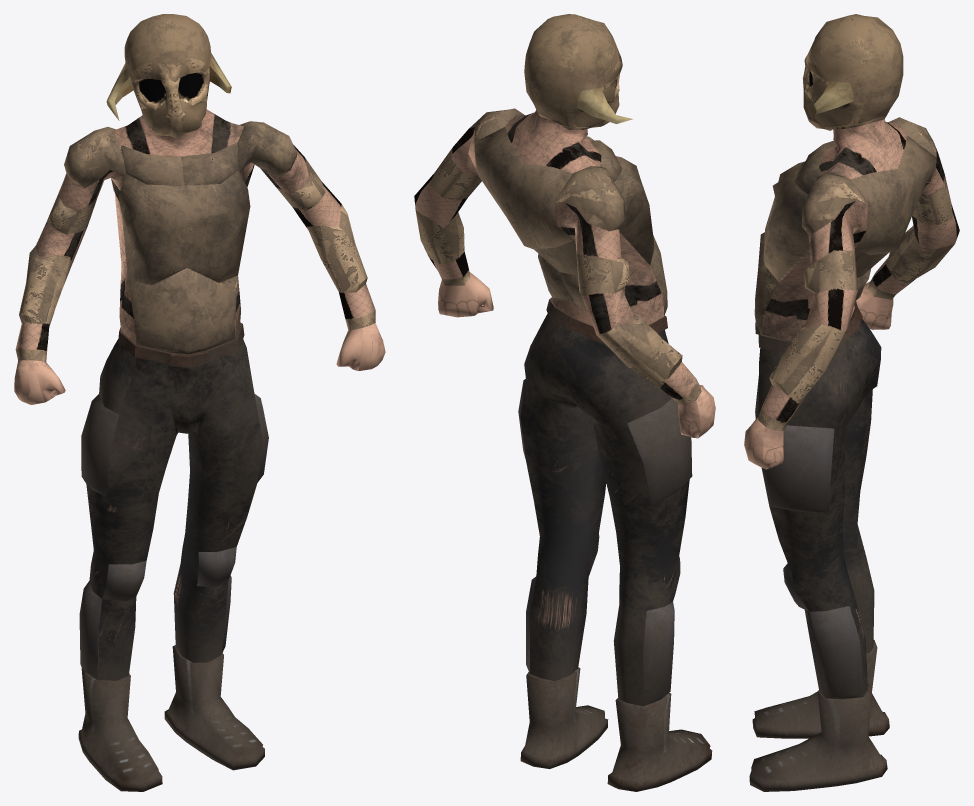
Rendered from Anim_recibirdanyo_npc1.0015.obj.
The picture shows the model from 3 angles, left to right: view 1: azimuth 30°, elevation 25°; view 2: azimuth 150°, elevation 25°; view 3: azimuth 270°, elevation 25°; orthographic projection. The views are drawn at different scales.
Parts seen in each view (by area): view 1: NPC2; view 2: NPC2; view 3: NPC2.
Boxes of the visible parts, x1,y1,x2,y2 form: NPC2: [14, 14, 385, 791]; NPC2: [414, 14, 715, 791]; NPC2: [744, 14, 959, 791].
Bounding box in the file's own units: 4.36 × 9.58 × 2.51.
